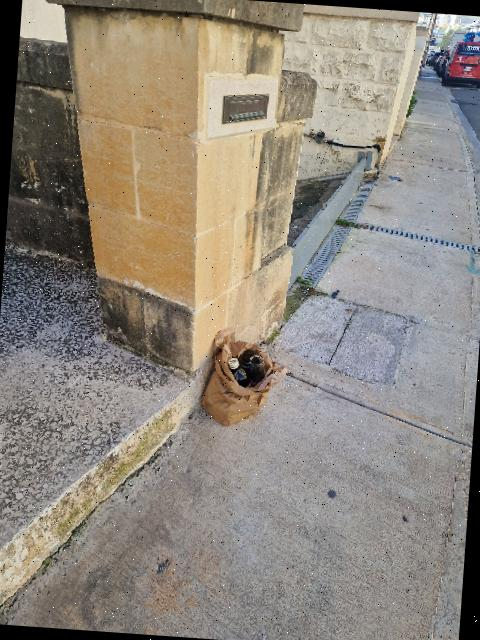Other: (201, 330, 286, 426)
